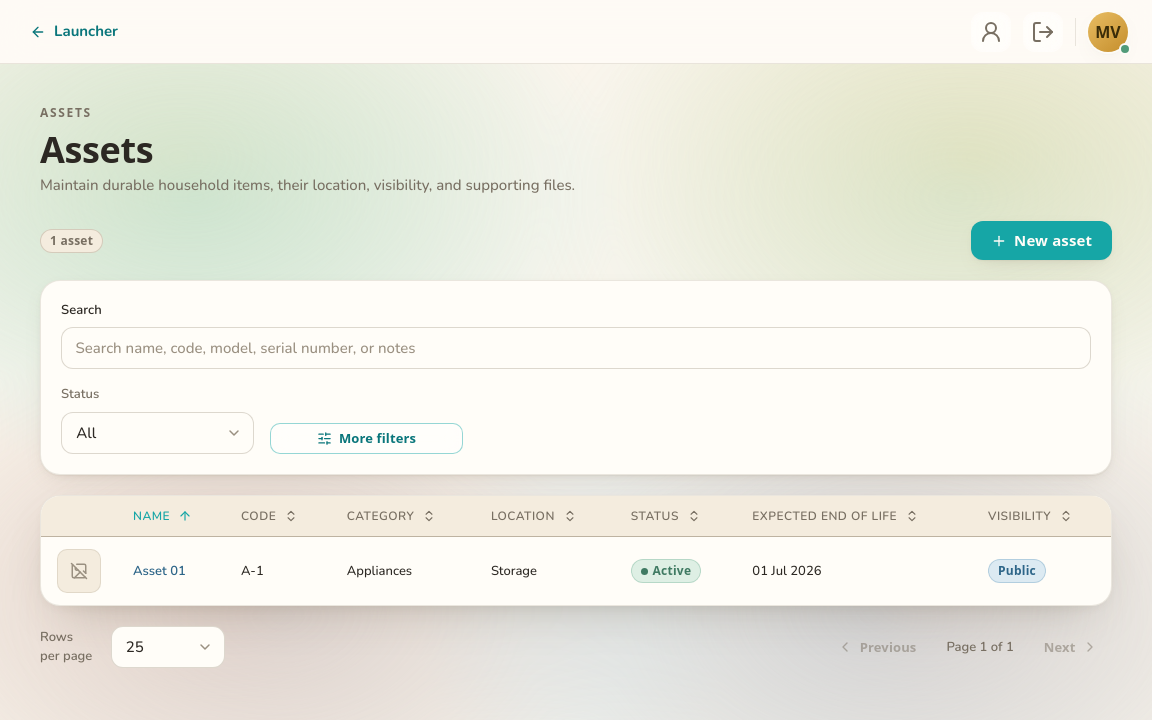
Assets page › shows a blocked deletion state when a referenced asset has no replacement
Click the button with aria-label "Open asset Asset 01" at point(159, 571), box [133,562,186,581]
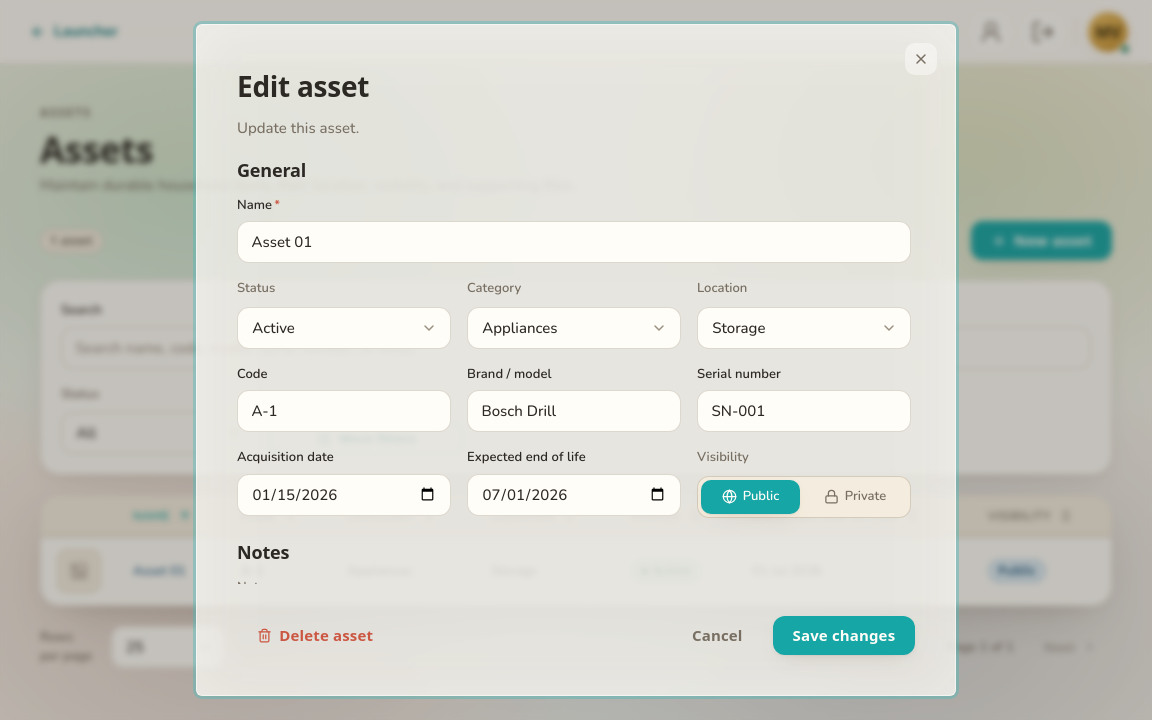
Click the button "Delete asset" at point(315, 636), box [237,616,393,655]
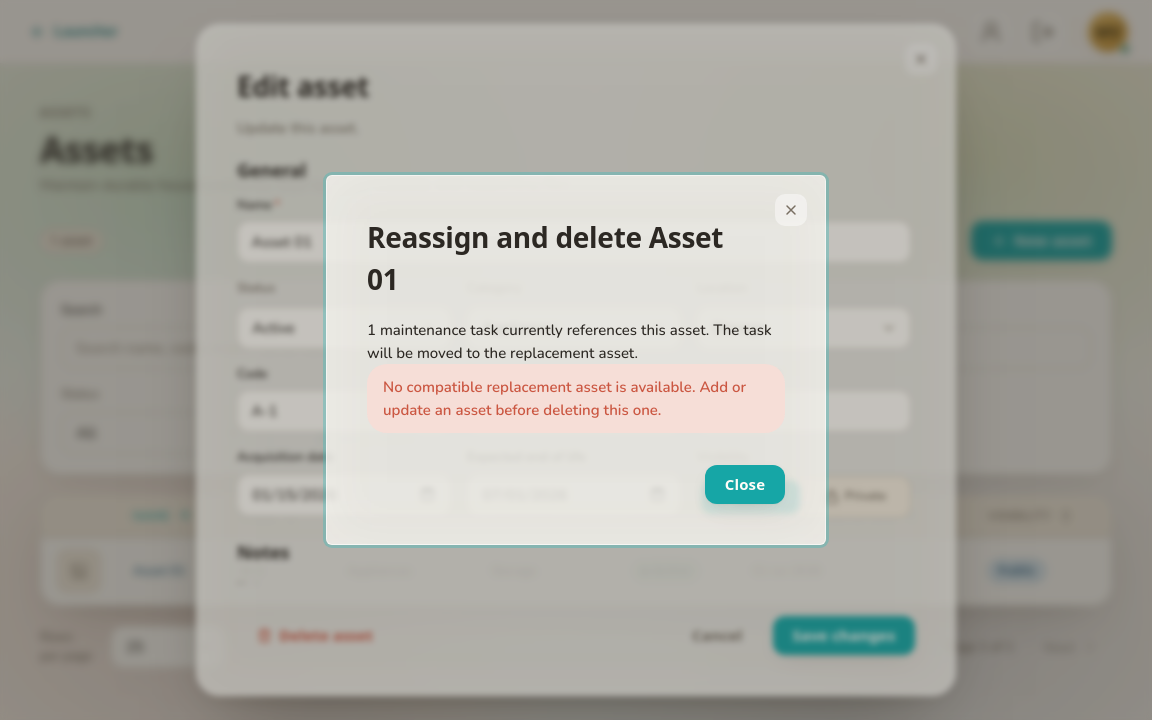
Expected: the text "No compatible replacement asset is available. Add or update an asset before deleting this one." is shown, [383,377,746,420]
